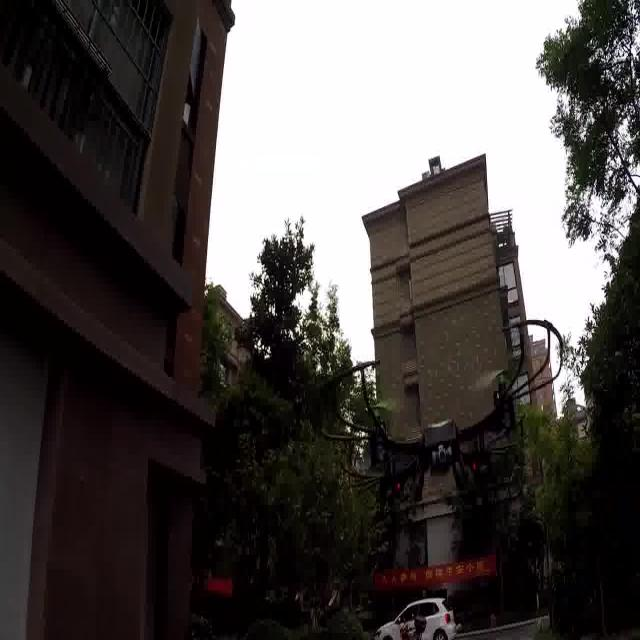drone: (328, 315, 574, 495)
